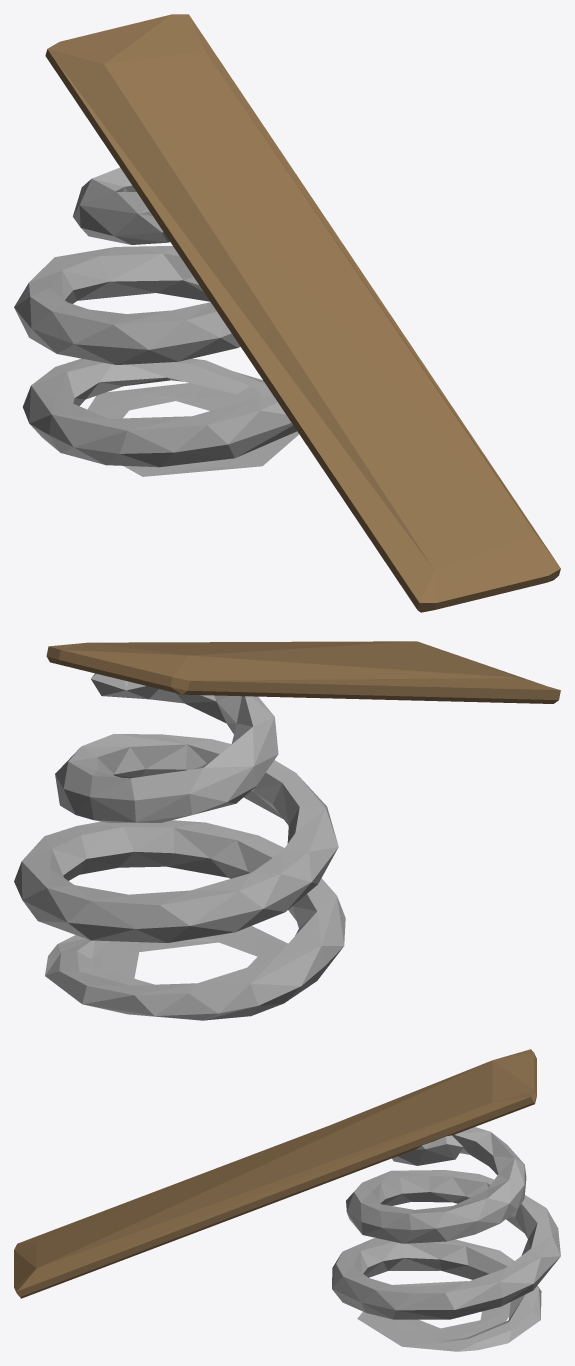
The model's file is Sprungfeder_mit_Brett_Mesh.fbx.
The picture shows the model from 3 angles, top to bottom: view 1: azimuth 30°, elevation 25°; view 2: azimuth 150°, elevation 25°; view 3: azimuth 270°, elevation 25°; orthographic projection. The views are drawn at different scales.
Parts seen in each view (by area): view 1: Holzbrett, Sprungfeder1; view 2: Sprungfeder1, Holzbrett; view 3: Sprungfeder1, Holzbrett.
Boxes of the visible parts, left/top/right/bottom form: Holzbrett: left=45, top=14, right=560, bottom=612; Sprungfeder1: left=14, top=167, right=298, bottom=476; Sprungfeder1: left=14, top=673, right=345, bottom=1020; Holzbrett: left=46, top=641, right=560, bottom=703; Sprungfeder1: left=332, top=1127, right=560, bottom=1351; Holzbrett: left=14, top=1049, right=536, bottom=1298.
Bounding box in the file's own units: 8.15 × 9.47 × 19.4.
